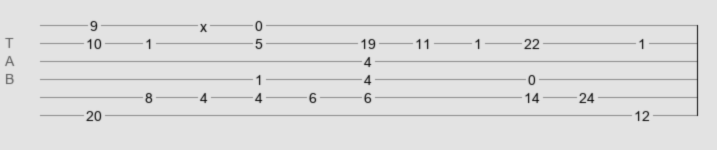0: (255, 18, 263, 28), (528, 72, 536, 82)
1: (145, 36, 153, 46), (255, 72, 263, 82), (474, 36, 482, 46), (638, 36, 646, 46)
10: (86, 36, 102, 46)
11: (415, 36, 431, 46)
12: (634, 108, 650, 118)
14: (524, 90, 540, 100)
19: (360, 36, 376, 46)
20: (86, 108, 102, 118)
22: (524, 36, 540, 46)
24: (579, 90, 595, 100)
4: (200, 90, 208, 100), (255, 90, 263, 100), (364, 54, 372, 64), (364, 72, 372, 82)
5: (255, 36, 263, 46)
6: (309, 90, 317, 100), (364, 90, 372, 100)
8: (145, 90, 153, 100)
9: (90, 18, 98, 28)
x: (200, 19, 207, 27)
